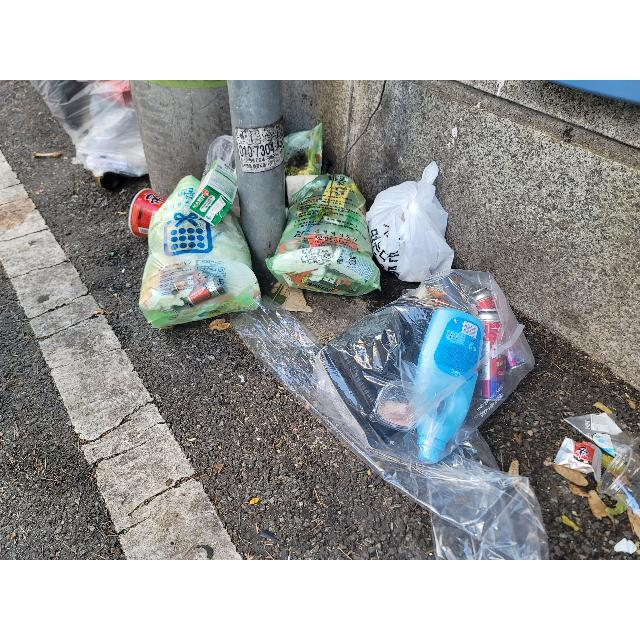general_trashbag: (139, 176, 260, 328), (266, 175, 380, 296), (284, 124, 322, 176), (331, 241, 334, 242), (319, 220, 320, 222)
other_trashbag: (235, 270, 548, 559), (31, 80, 148, 176), (366, 161, 454, 282)
